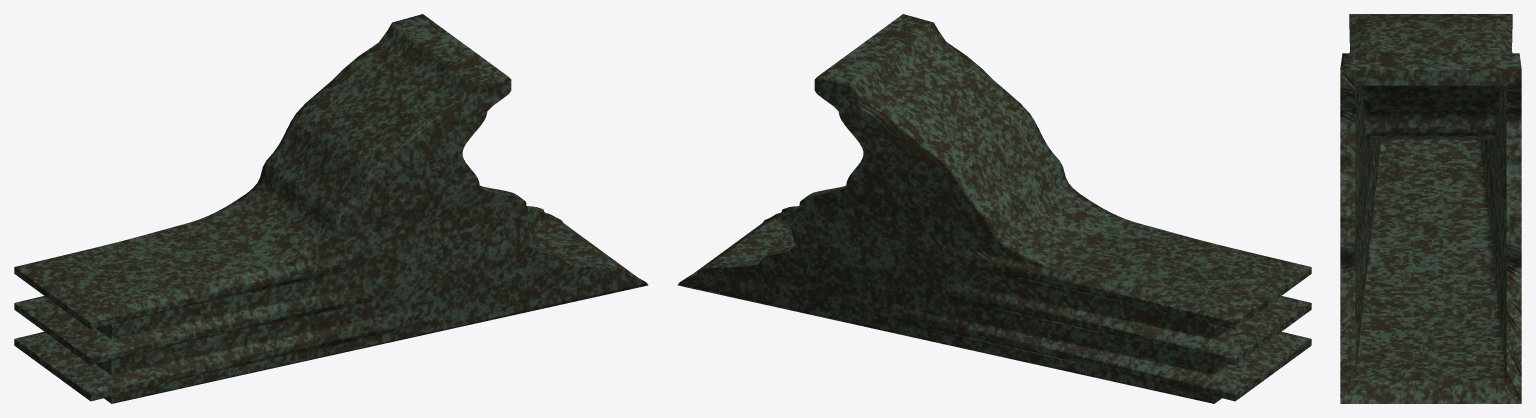
Rendered from NEW693_BronzeRam_LOD0.glb.
The picture shows the model from 3 angles, left to right: view 1: azimuth 30°, elevation 25°; view 2: azimuth 150°, elevation 25°; view 3: azimuth 270°, elevation 25°; orthographic projection. The views are drawn at different scales.
Parts seen in each view (by area): view 1: Complete_bronze_ram_artifact_open_aft_socket; view 2: Complete_bronze_ram_artifact_open_aft_socket; view 3: Complete_bronze_ram_artifact_open_aft_socket.
Part boxes in pixels (bbox=[...]): Complete_bronze_ram_artifact_open_aft_socket: bbox=[14, 14, 648, 403]; Complete_bronze_ram_artifact_open_aft_socket: bbox=[677, 14, 1311, 403]; Complete_bronze_ram_artifact_open_aft_socket: bbox=[1340, 14, 1521, 403].
Size of the model in its own units: 2.26 by 0.95 by 0.6.
1 material, 1 textured.
